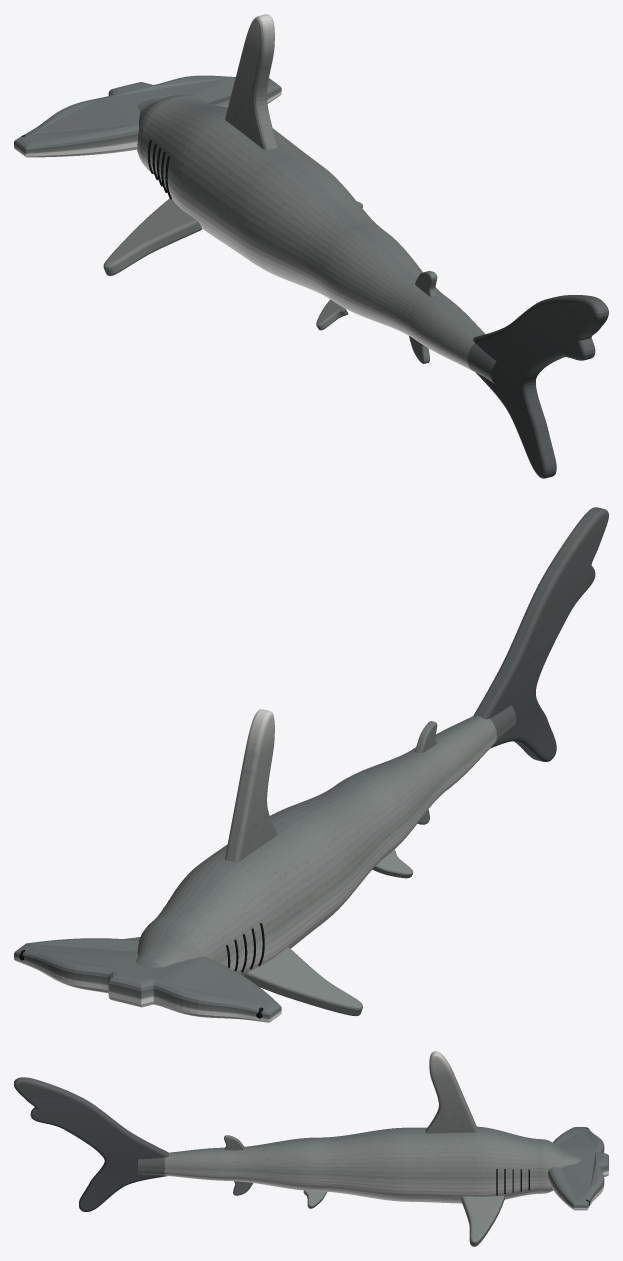
Rendered from hammerhead.glb.
The picture shows the model from 3 angles, top to bottom: view 1: azimuth 30°, elevation 25°; view 2: azimuth 150°, elevation 25°; view 3: azimuth 270°, elevation 25°; orthographic projection. The views are drawn at different scales.
Visible parts, largest first — view 1: hammerhead_body; view 2: hammerhead_body; view 3: hammerhead_body.
Part boxes in pixels (bbox=[...]): hammerhead_body: bbox=[14, 14, 608, 478]; hammerhead_body: bbox=[14, 507, 608, 1022]; hammerhead_body: bbox=[14, 1051, 608, 1246].
Size of the model in its own units: 1.03 by 0.9716 by 3.31.
2 materials, 1 textured.
